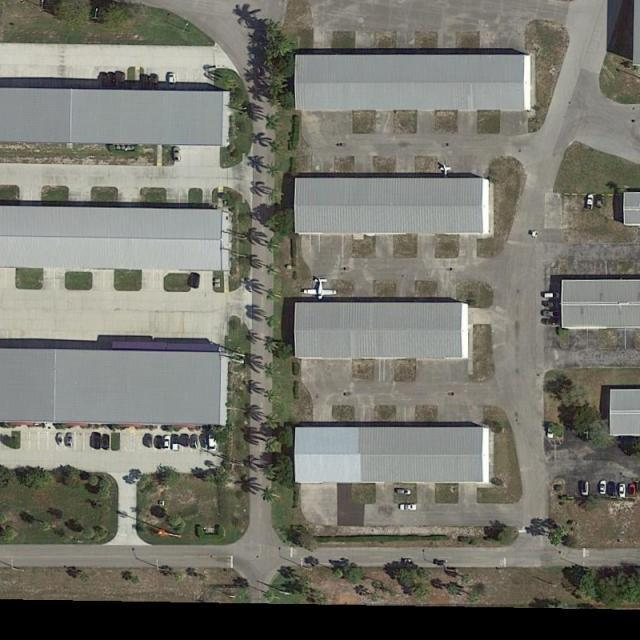vehicle: (100, 73, 111, 91), (209, 433, 218, 453), (541, 309, 561, 318), (400, 503, 418, 513), (606, 481, 617, 497), (542, 291, 561, 300), (586, 194, 596, 211), (542, 318, 562, 326), (172, 146, 182, 162), (580, 481, 590, 497), (102, 433, 111, 450), (56, 433, 66, 448), (142, 74, 150, 92), (201, 434, 210, 450), (171, 434, 180, 450), (94, 432, 102, 450), (581, 426, 590, 442), (547, 422, 556, 438), (598, 481, 608, 495), (118, 74, 126, 91), (110, 73, 118, 90), (152, 74, 160, 91), (192, 273, 200, 290), (396, 488, 411, 497), (542, 300, 561, 307), (169, 74, 177, 90), (145, 434, 154, 448), (181, 434, 190, 448), (595, 194, 603, 209), (190, 434, 198, 449), (163, 435, 171, 450), (66, 433, 74, 447), (619, 483, 626, 498), (155, 435, 162, 449), (629, 483, 636, 496)
